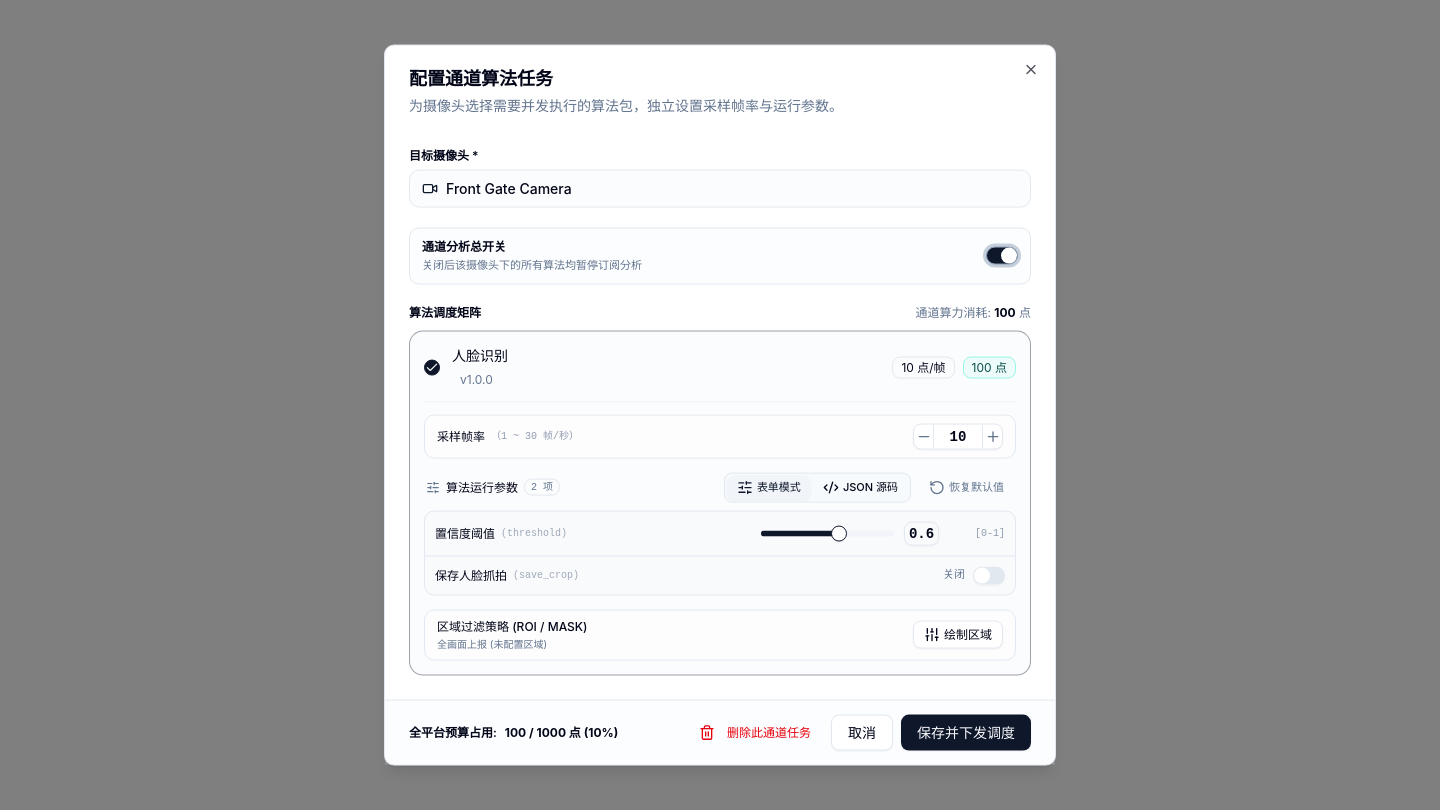
it: ChannelTaskDialog › steps the sampling rate with the FPS control and keeps the box in sync
Expected: the field named "采样帧率" holds "10", top-left (934, 424), bottom-right (982, 448)
Click the button named "提高采样帧率" at (992, 436), box top-left (982, 424), bottom-right (1002, 448)
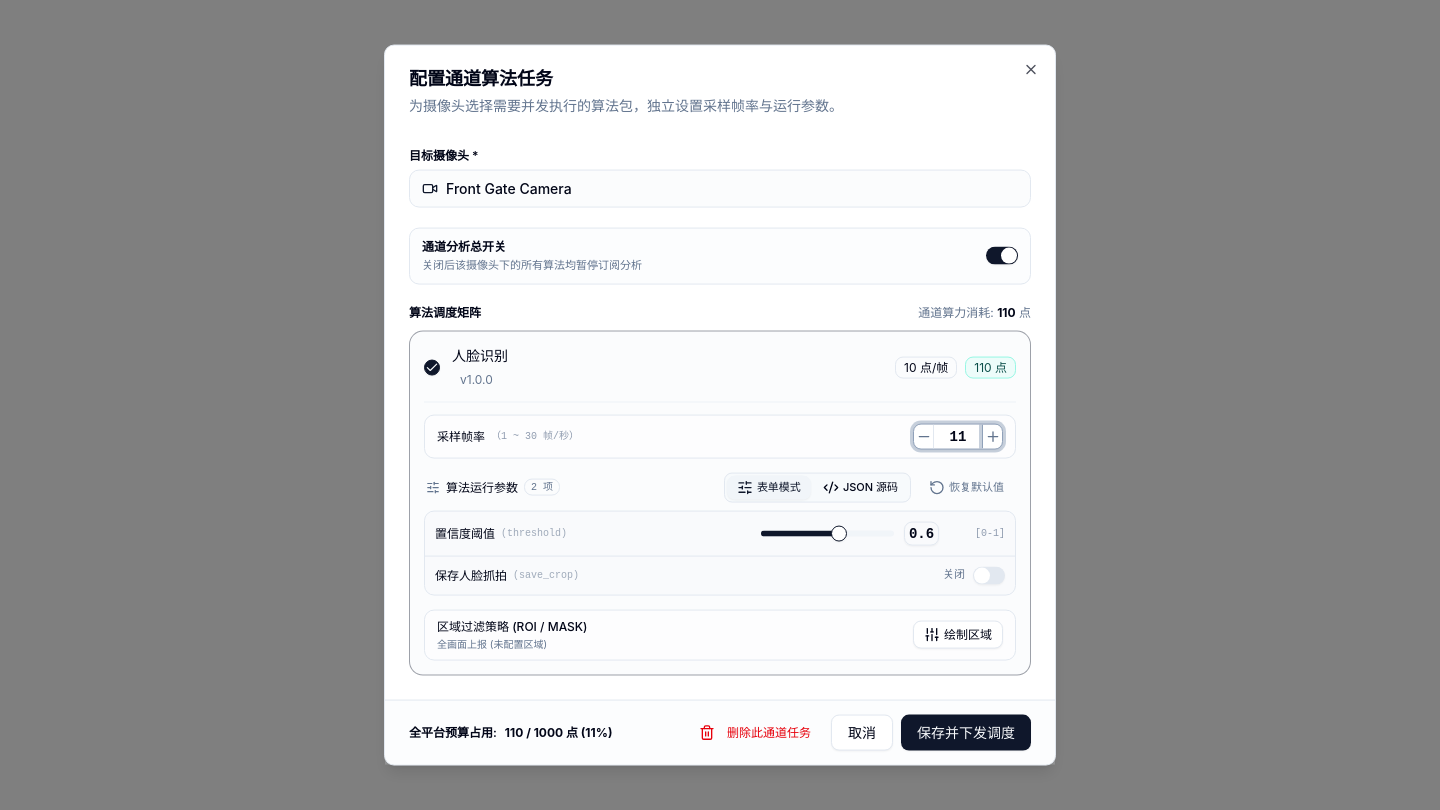
Expected: the field named "采样帧率" holds "11", top-left (934, 424), bottom-right (982, 448)
Click the button named "降低采样帧率" at (924, 436), box top-left (914, 424), bottom-right (934, 448)
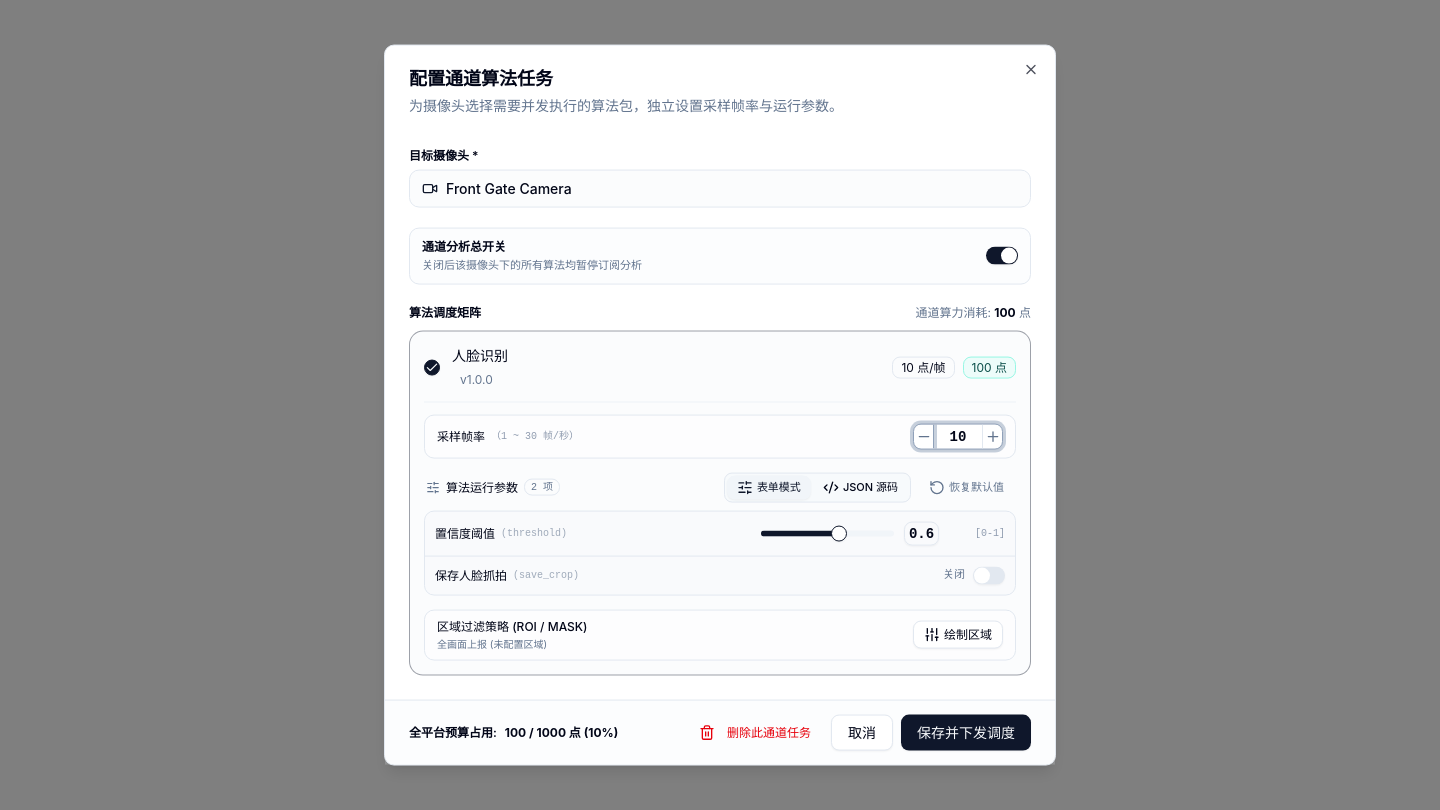
Expected: the field named "采样帧率" holds "10", top-left (934, 424), bottom-right (982, 448)
